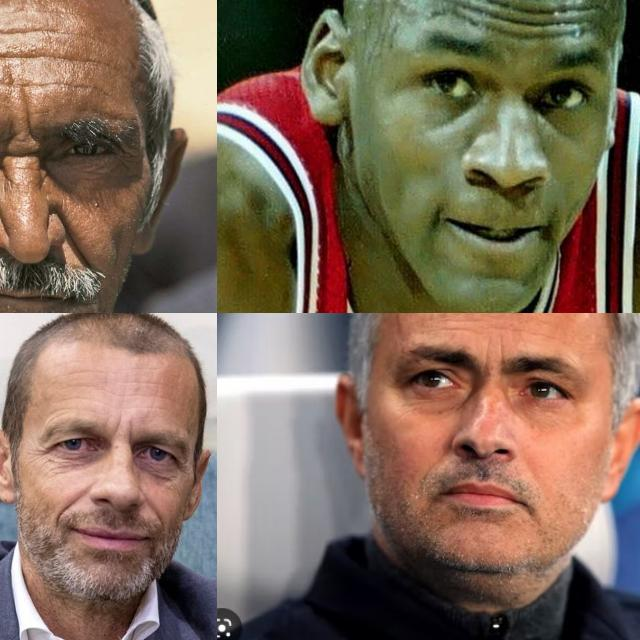crows_feet: (28, 441, 54, 462), (174, 457, 190, 478)
forehead: (446, 0, 599, 43), (0, 44, 63, 74), (31, 72, 98, 95), (0, 18, 46, 41), (442, 314, 472, 336), (127, 374, 161, 392), (70, 362, 100, 378)
frown_line: (6, 124, 42, 166), (113, 413, 133, 443), (492, 337, 508, 363)
gummy_smile: (56, 214, 92, 268), (50, 490, 80, 522), (152, 506, 164, 530)
